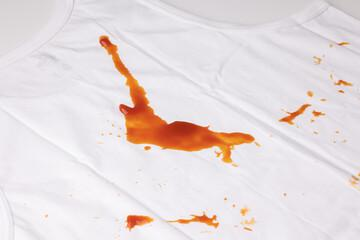gun: (116, 120, 256, 160), (99, 35, 130, 75), (277, 97, 313, 127), (165, 215, 222, 229), (122, 76, 147, 102), (115, 103, 158, 118), (330, 70, 352, 91), (124, 214, 155, 228), (331, 128, 348, 144), (239, 216, 253, 234), (311, 53, 325, 66), (350, 171, 359, 186), (334, 37, 347, 47), (306, 87, 315, 97), (240, 204, 247, 216), (221, 195, 229, 200), (230, 201, 236, 207), (107, 131, 111, 139), (283, 190, 286, 198), (99, 131, 104, 134)
